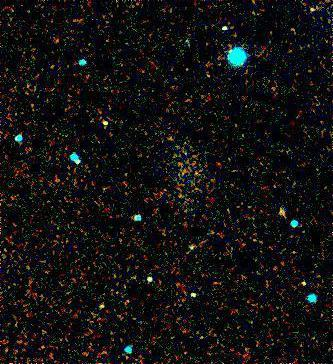star: (175, 231, 205, 261)
